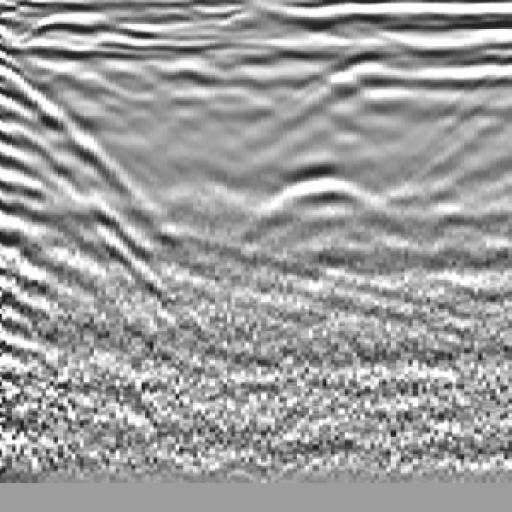metalic: (229, 42, 411, 308)
nonmetalic: (1, 44, 110, 288)
